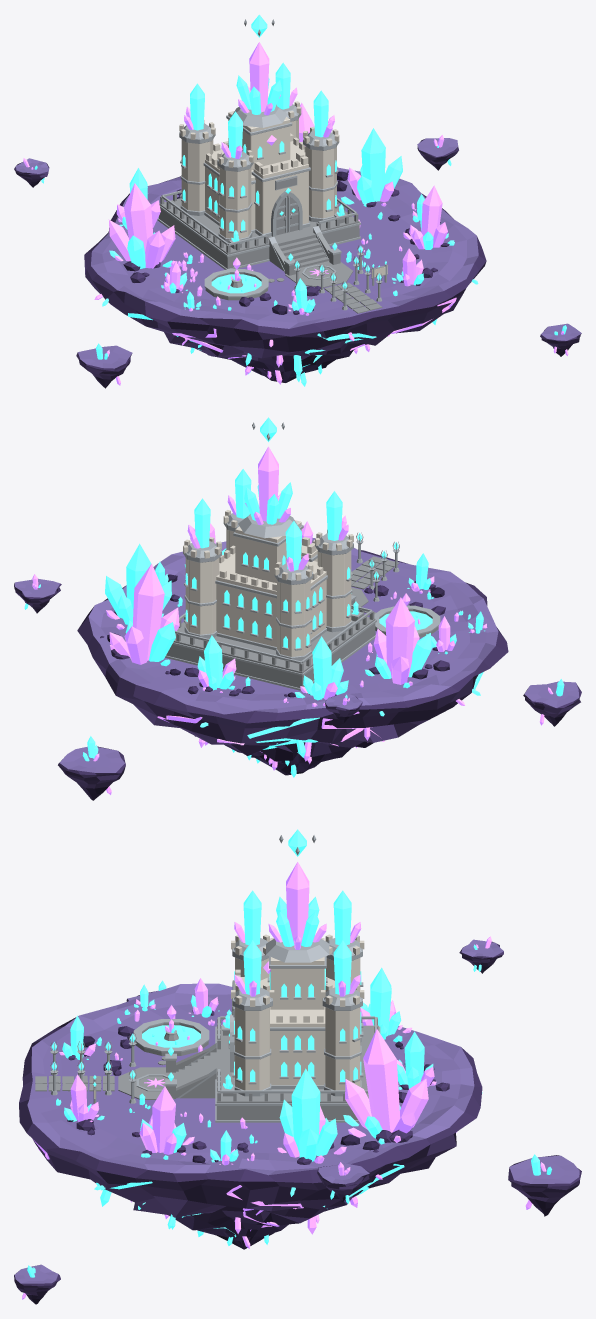
File: crystal-palace-island.glb
The picture shows the model from 3 angles, top to bottom: view 1: azimuth 30°, elevation 25°; view 2: azimuth 150°, elevation 25°; view 3: azimuth 270°, elevation 25°; orthographic projection. The views are drawn at different scales.
Parts seen in each view (by area): view 1: Island_Body, Palace_Walls, Palace_Plinth, Palace_Spires, CrystalCluster_1, CrystalCluster_2, Grounds_Paving, Pool, CrystalCluster_6, FloatRock_1, Palace_Windows, Island_CrystalVeins (+12 smaller); view 2: Island_Body, Palace_Walls, Palace_Spires, Palace_Plinth, CrystalCluster_4, CrystalCluster_1, FloatRock_3, Palace_Windows, CrystalCluster_2, CrystalCluster_3, FloatRock_1, CrystalCluster_5 (+10 smaller); view 3: Island_Body, Palace_Walls, Palace_Spires, Palace_Plinth, CrystalCluster_4, CrystalCluster_2, FloatRock_3, Pool, Grounds_Paving, CrystalCluster_6, Palace_Windows, Ground_Rocks (+12 smaller).
Part boxes in pixels (box(x1,y1,x2,y2)): Island_Body: box(84, 167, 486, 382); Palace_Walls: box(179, 101, 339, 242); Palace_Plinth: box(157, 190, 360, 275); Palace_Spires: box(183, 42, 335, 166); CrystalCluster_1: box(108, 183, 177, 271); CrystalCluster_2: box(341, 128, 402, 207); Grounds_Paving: box(268, 261, 382, 313); Pool: box(204, 269, 268, 300); CrystalCluster_6: box(403, 185, 454, 249); FloatRock_1: box(76, 343, 132, 388); Palace_Windows: box(180, 138, 338, 233); Island_CrystalVeins: box(127, 297, 456, 381); Island_Body: box(77, 538, 508, 775); Palace_Walls: box(183, 510, 353, 660); Palace_Spires: box(187, 446, 349, 579); Palace_Plinth: box(165, 593, 376, 690); CrystalCluster_4: box(109, 563, 179, 666); CrystalCluster_1: box(365, 597, 432, 688); FloatRock_3: box(58, 736, 125, 800); Palace_Windows: box(184, 550, 352, 650); CrystalCluster_2: box(105, 543, 171, 629); CrystalCluster_3: box(294, 636, 348, 706); FloatRock_1: box(523, 679, 581, 726); CrystalCluster_5: box(197, 635, 236, 692); Island_Body: box(19, 983, 482, 1249); Palace_Walls: box(231, 934, 364, 1096); Palace_Spires: box(234, 862, 361, 1004); Palace_Plinth: box(165, 1014, 380, 1122); CrystalCluster_4: box(343, 1029, 428, 1144); CrystalCluster_2: box(277, 1068, 346, 1164); FloatRock_3: box(508, 1154, 581, 1216); Pool: box(133, 1019, 209, 1055); Grounds_Paving: box(35, 1056, 178, 1099); CrystalCluster_6: box(139, 1086, 194, 1159); Palace_Windows: box(232, 968, 363, 1084); Ground_Rocks: box(76, 1026, 449, 1163).
Size of the model in its own units: 137 by 102 by 126.
